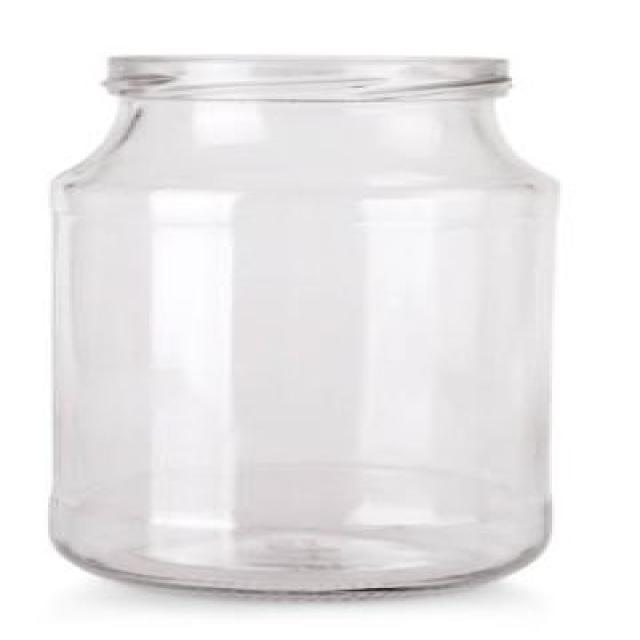electronic: (39, 50, 563, 608)
